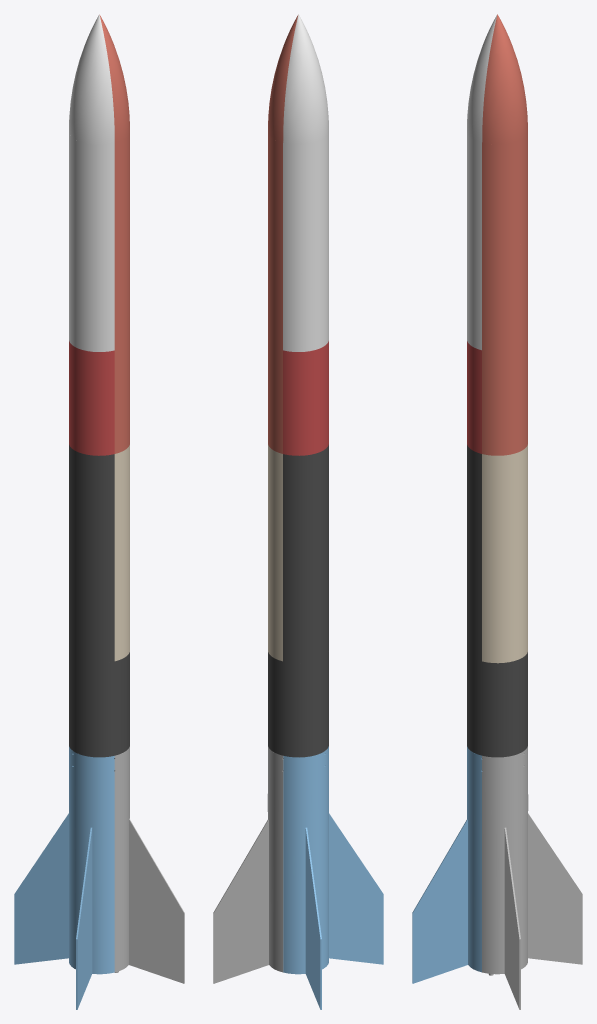
File: charlotte.glb
3 renders of one model, left to right at view 1: azimuth 30°, elevation 25°; view 2: azimuth 150°, elevation 25°; view 3: azimuth 330°, elevation 25°, orthographic.
Visible parts, largest first — view 1: Body2, Body3, Body9, Body15, Body12, Body11, Body13, Body14, Body10, Body1, Body16, Body4 (+10 smaller); view 2: Body5, Body4, Body9, Body15, Body12, Body11, Body13, Body14, Body10, Body1, Body16, Body3 (+10 smaller); view 3: Body4, Body5, Body19, Body25, Body22, Body21, Body24, Body23, Body20, Body18, Body26, Body2 (+10 smaller).
Part boxes in pixels (x1,y1,x2,y2): Body2: (129, 818, 184, 983); Body3: (14, 813, 68, 964); Body9: (68, 746, 114, 865); Body15: (69, 133, 114, 248); Body12: (69, 445, 114, 559); Body11: (69, 548, 114, 663); Body13: (69, 341, 114, 455); Body14: (69, 237, 114, 351); Body10: (69, 652, 114, 757); Body1: (68, 853, 114, 974); Body16: (69, 47, 114, 144); Body4: (76, 827, 92, 1009); Body5: (213, 818, 268, 983); Body4: (329, 813, 383, 964); Body9: (283, 746, 328, 865); Body15: (283, 133, 328, 248); Body12: (283, 444, 328, 559); Body11: (283, 548, 328, 663); Body13: (283, 341, 328, 455); Body14: (283, 237, 328, 351); Body10: (283, 652, 328, 757); Body1: (283, 855, 328, 974); Body16: (283, 47, 328, 144); Body3: (305, 827, 321, 1009); Body4: (412, 818, 467, 983); Body5: (528, 813, 582, 964); Body19: (482, 746, 528, 865); Body25: (482, 133, 527, 248); Body22: (482, 444, 527, 559); Body21: (482, 548, 527, 663); Body24: (482, 237, 527, 351); Body23: (482, 341, 527, 455); Body20: (482, 652, 527, 757); Body18: (482, 855, 527, 974); Body26: (482, 47, 527, 144); Body2: (504, 827, 520, 1009).
Size of the model in its own units: 24.12 by 204 by 24.12.
